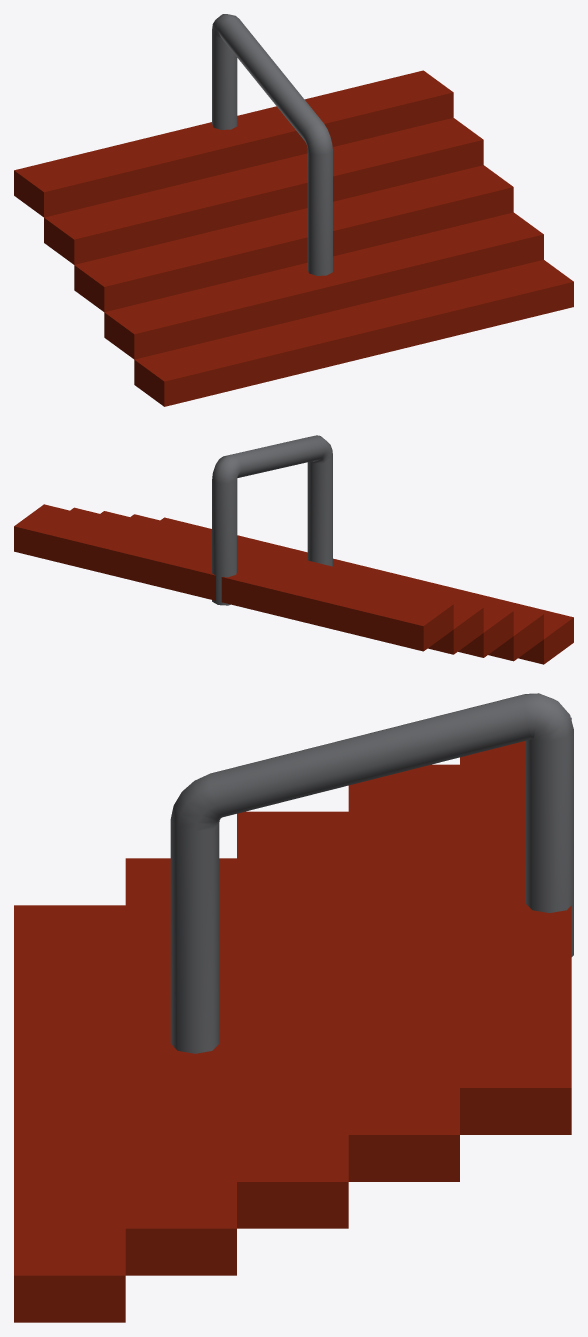
The model's file is Spo_Stairs 1.fbx.
3 renders of one model, top to bottom at view 1: azimuth 30°, elevation 25°; view 2: azimuth 150°, elevation 25°; view 3: azimuth 270°, elevation 25°, orthographic. The views are drawn at different scales.
Visible parts, largest first — view 1: Sport_Stairs.001, Sport_Stairs; view 2: Sport_Stairs.001, Sport_Stairs; view 3: Sport_Stairs.001, Sport_Stairs.
Part boxes in pixels (x1=…): Sport_Stairs.001: x1=14, y1=70, x2=573, y2=406; Sport_Stairs: x1=212, y1=14, x2=332, y2=275; Sport_Stairs.001: x1=14, y1=504, x2=573, y2=664; Sport_Stairs: x1=212, y1=435, x2=332, y2=605; Sport_Stairs.001: x1=14, y1=717, x2=571, y2=1322; Sport_Stairs: x1=170, y1=693, x2=573, y2=1053.
Size of the model in its own units: 395 by 252 by 220.
